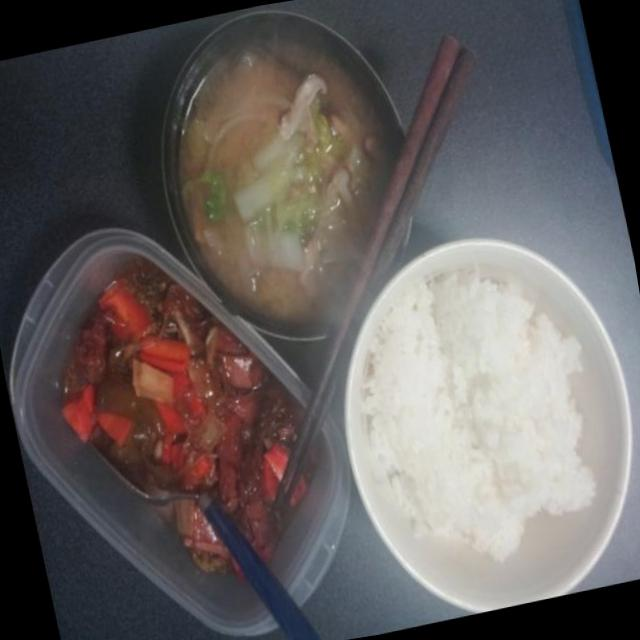Rice: (339, 256, 614, 582)
